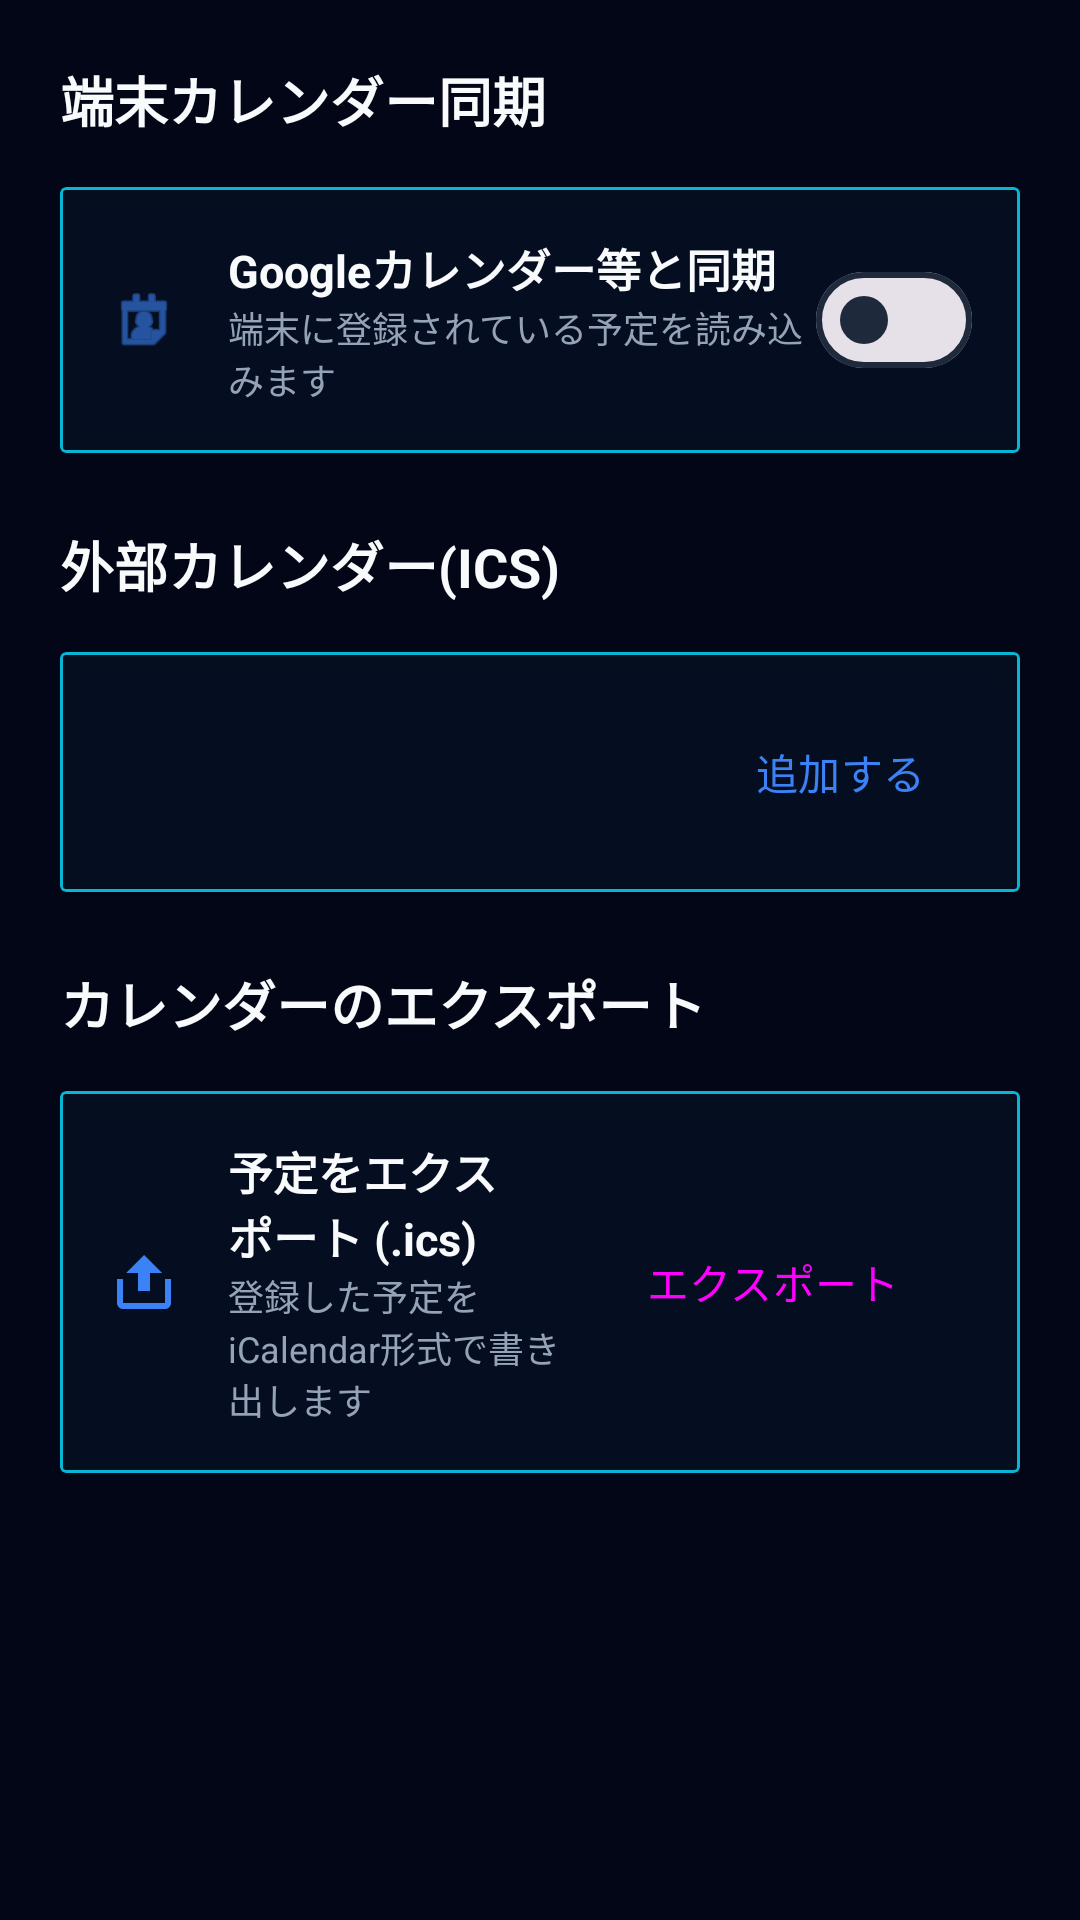

Where to tap for icons on this 1080 x 1920 app screen, as (x=x, y=y):
calendar: (x=144, y=319)
export schedule: (x=144, y=1282)
